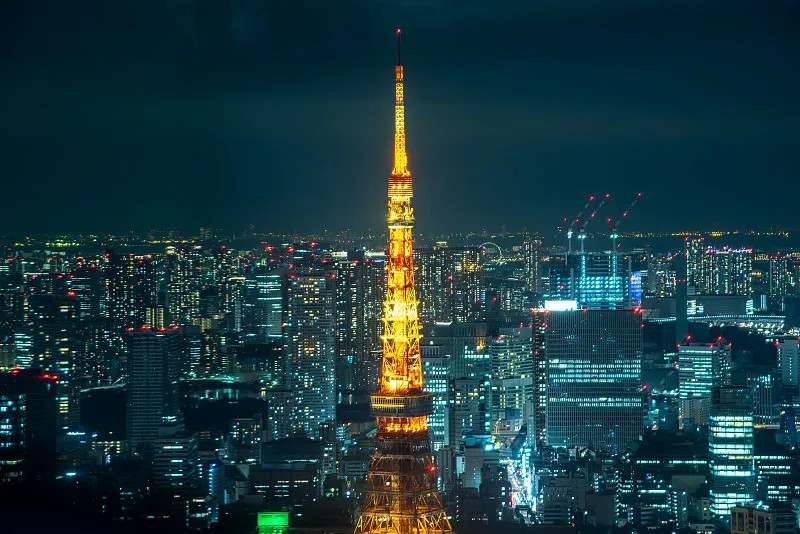Tokyo: (353, 26, 453, 534)
